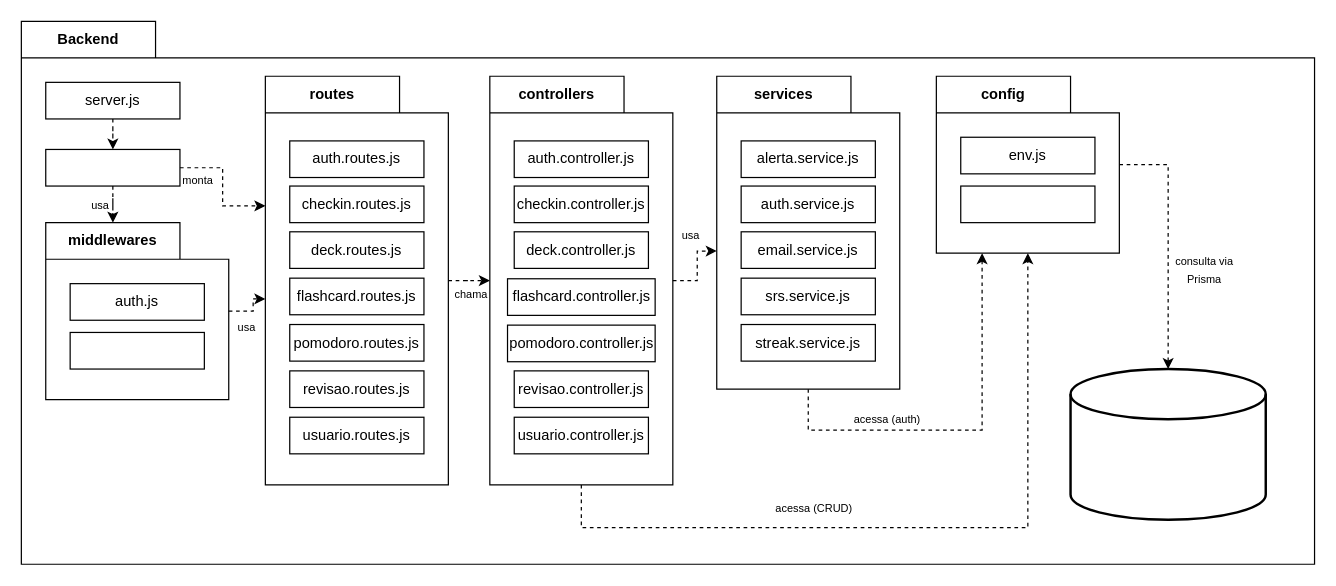
The diagram is 1336 pixels wide and 586 high, and some of its shapes have lost their labels. The centre of each missing label's shape, as x and y in pixels:
"app.js" goes at [112,167].
"errorHandler.js" goes at [136,350].
"PostgreSQL (Neon)" goes at [1167,443].
"prisma.js" goes at [1027,204].
